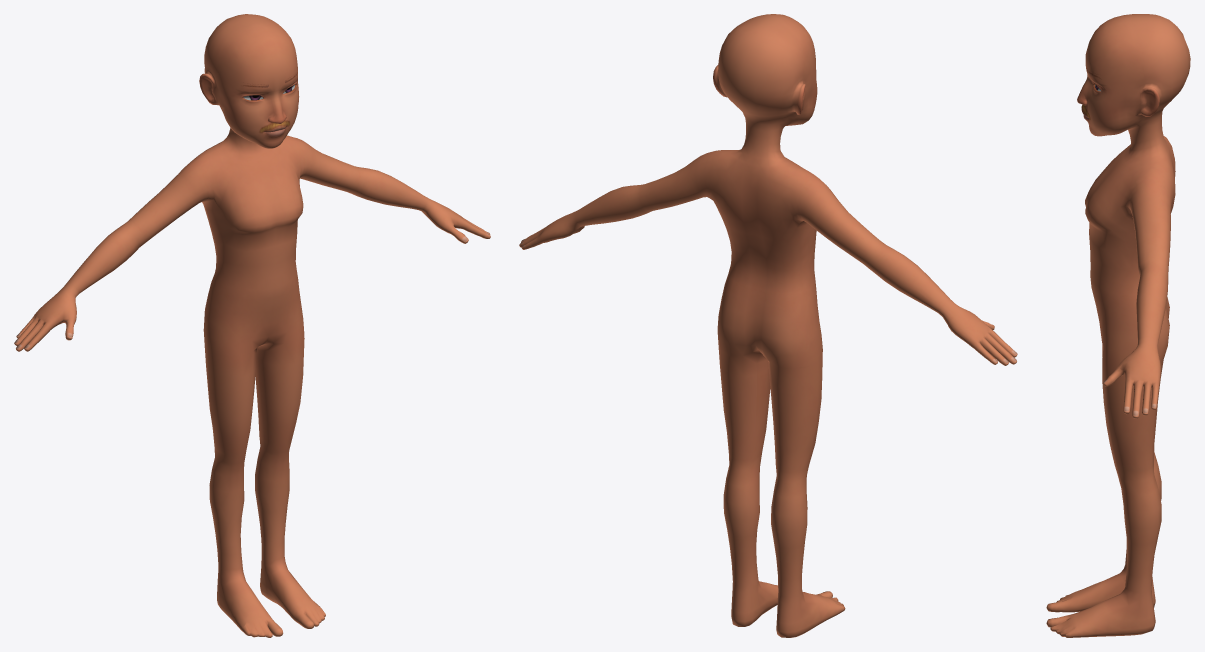
The model's file is frame_0001.glb.
The picture shows the model from 3 angles, left to right: view 1: azimuth 30°, elevation 25°; view 2: azimuth 150°, elevation 25°; view 3: azimuth 270°, elevation 25°; orthographic projection. The views are drawn at different scales.
Parts seen in each view (by area): view 1: frame_0001_head_geo; view 2: frame_0001_head_geo; view 3: frame_0001_head_geo.
Boxes of the visible parts, x1,y1,x2,y2 form: frame_0001_head_geo: [14, 14, 490, 637]; frame_0001_head_geo: [519, 14, 1017, 637]; frame_0001_head_geo: [1046, 14, 1190, 637].
Size of the model in its own units: 1.28 by 1.5 by 0.3253.
3 materials, 3 textured.
